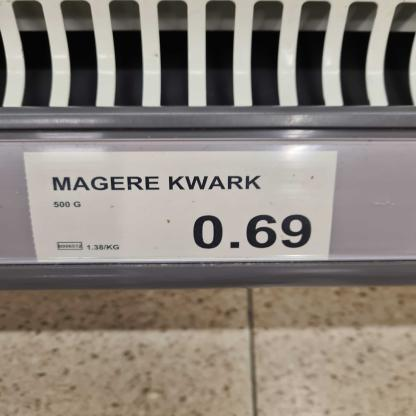prtg: (25, 152, 338, 264)
